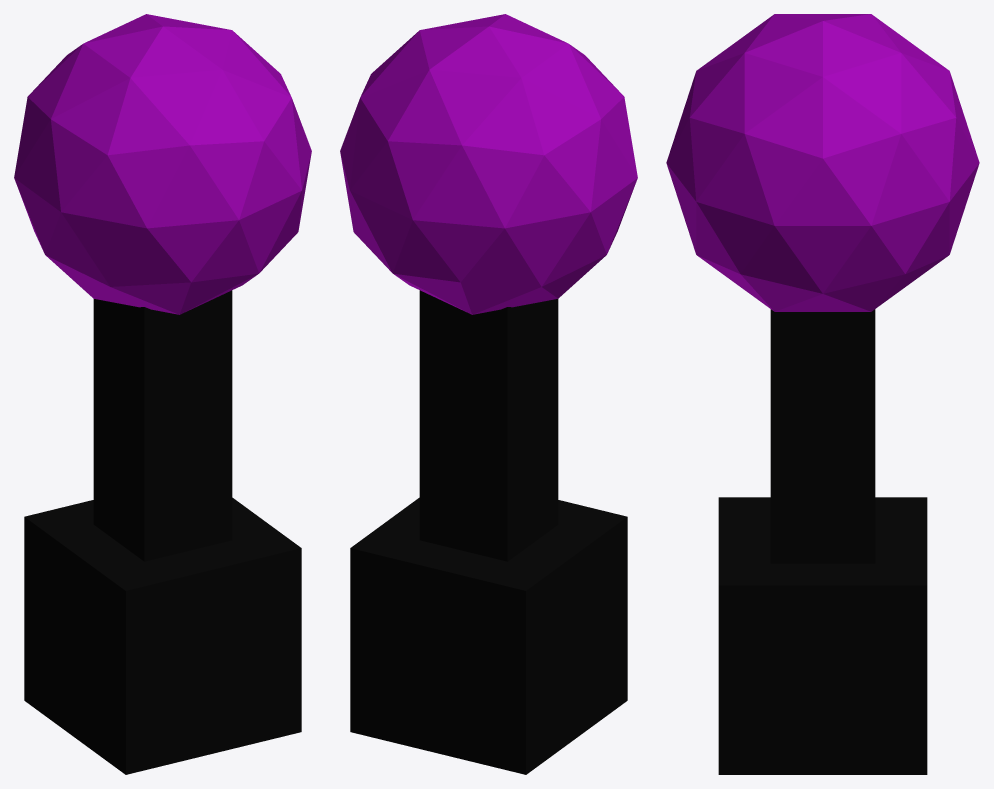
File: Turret.fbx
3 renders of one model, left to right at view 1: azimuth 30°, elevation 25°; view 2: azimuth 150°, elevation 25°; view 3: azimuth 270°, elevation 25°, orthographic. The views are drawn at different scales.
Parts seen in each view (by area): view 1: Icosphere, Cube, Cube.001; view 2: Icosphere, Cube, Cube.001; view 3: Icosphere, Cube, Cube.001.
Boxes of the visible parts, x1,y1,x2,y2 form: Icosphere: (14, 14, 311, 314); Cube: (24, 497, 301, 774); Cube.001: (93, 290, 232, 561); Icosphere: (340, 14, 637, 314); Cube: (350, 497, 627, 774); Cube.001: (419, 290, 558, 561); Icosphere: (666, 14, 979, 311); Cube: (718, 497, 927, 774); Cube.001: (770, 309, 875, 563).
Bounding box in the file's own units: 285 × 750 × 300.
